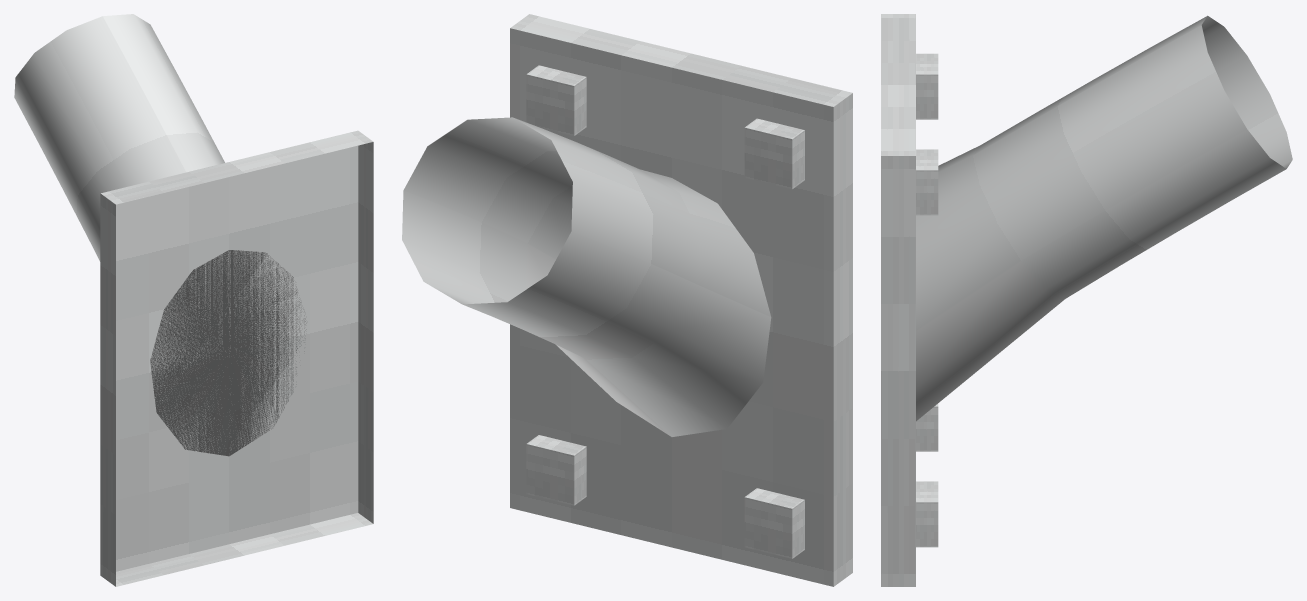
File: luminairearm_caltrans10ftdouble_c0_wall.obj
3 views of the same model, side by side, from view 1: azimuth 30°, elevation 25°; view 2: azimuth 150°, elevation 25°; view 3: azimuth 270°, elevation 25° (orthographic). The views are drawn at different scales.
Visible parts, largest first — view 1: luminairearm_caltrans10ftdouble_c0_wall; view 2: luminairearm_caltrans10ftdouble_c0_wall; view 3: luminairearm_caltrans10ftdouble_c0_wall.
Boxes of the visible parts, box(x1,y1,x2,y2) form: luminairearm_caltrans10ftdouble_c0_wall: box(14, 14, 373, 586); luminairearm_caltrans10ftdouble_c0_wall: box(402, 14, 852, 586); luminairearm_caltrans10ftdouble_c0_wall: box(881, 14, 1292, 586).
Size of the model in its own units: 0.4221 by 0.6813 by 0.5178.
